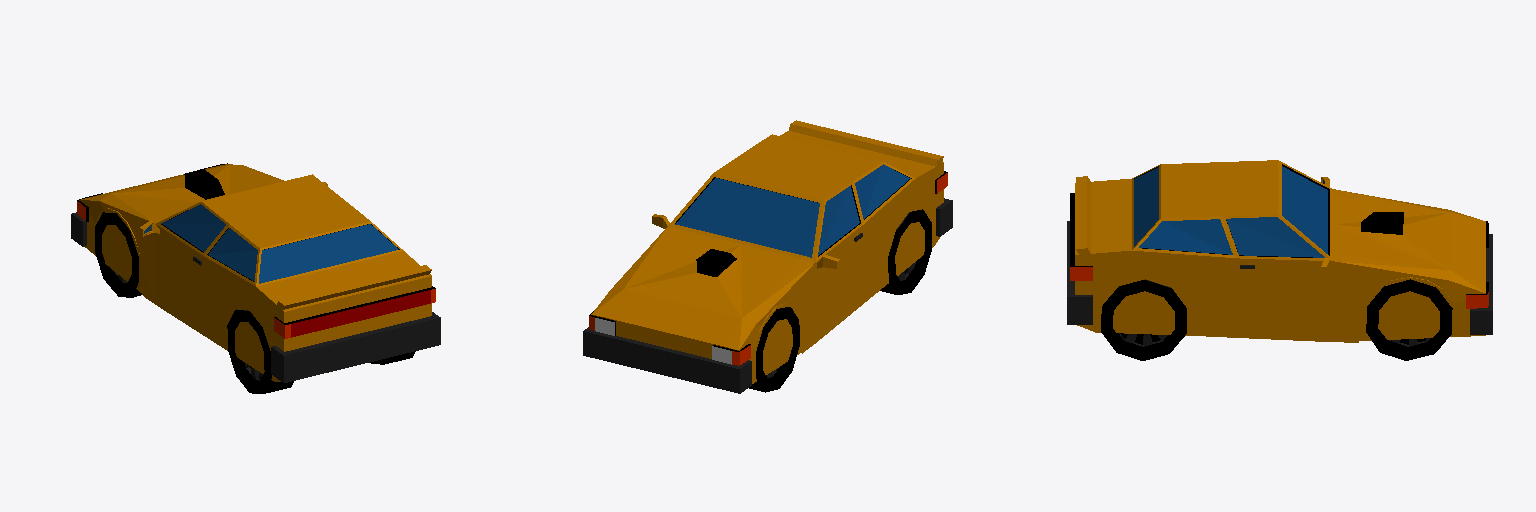
Rendered from muscleCar.obj.
3 views of the same model, side by side, from view 1: azimuth 30°, elevation 25°; view 2: azimuth 150°, elevation 25°; view 3: azimuth 270°, elevation 25° (orthographic).
Visible parts, largest first — view 1: car001.007_Cube.009; view 2: car001.007_Cube.009; view 3: car001.007_Cube.009.
Part boxes in pixels (x1,y1,x2,y2): car001.007_Cube.009: (71, 163, 440, 393); car001.007_Cube.009: (583, 120, 952, 393); car001.007_Cube.009: (1067, 160, 1492, 360).
Size of the model in its own units: 1.1 by 0.7761 by 2.17.